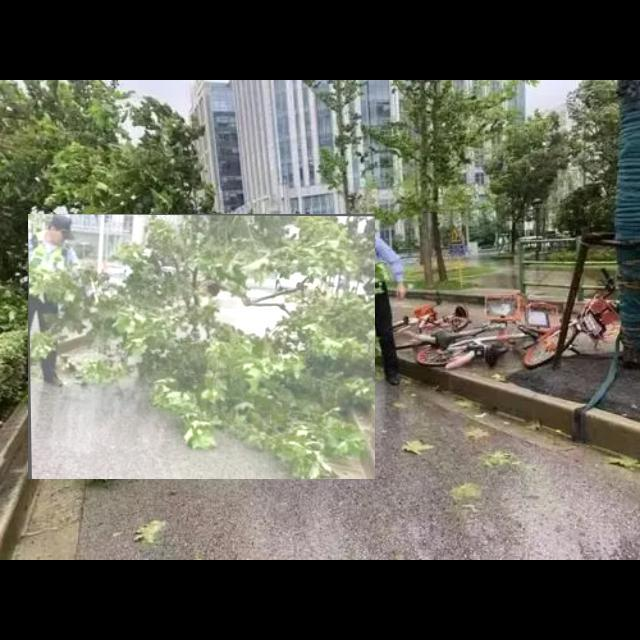fallen_tree: (28, 214, 376, 480)
